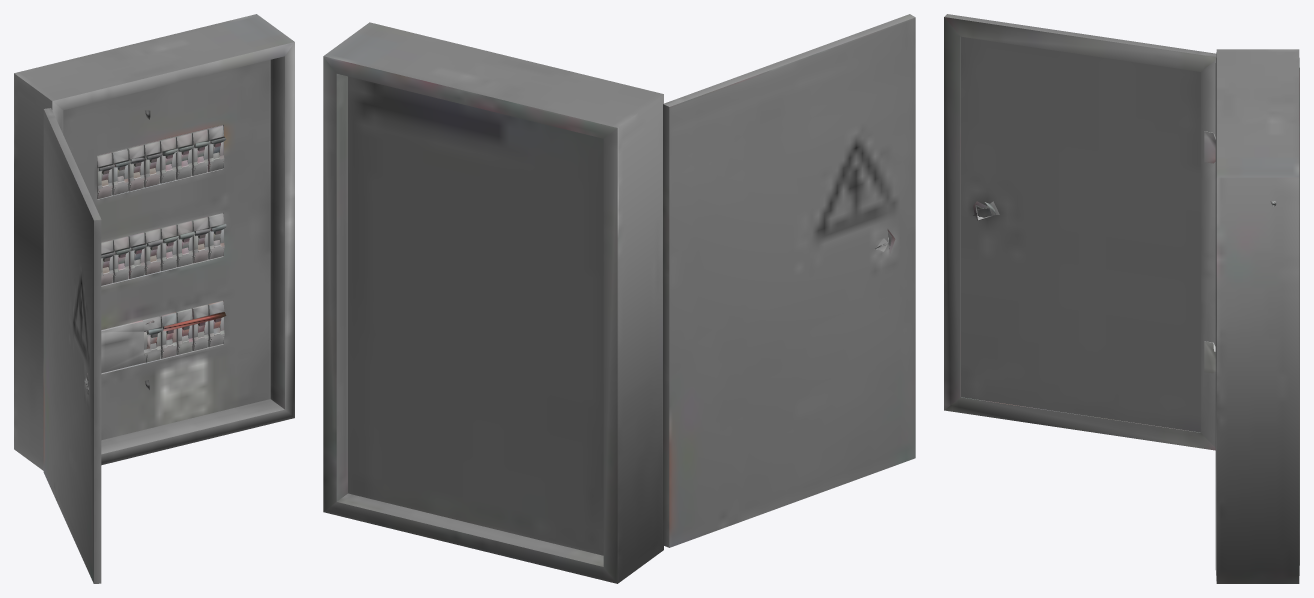
Rendered from powerbox.glb.
3 views of the same model, side by side, from view 1: azimuth 30°, elevation 25°; view 2: azimuth 150°, elevation 25°; view 3: azimuth 270°, elevation 25° (orthographic). The views are drawn at different scales.
Visible parts, largest first — view 1: power_box_01_box, power_box_01_door; view 2: power_box_01_box, power_box_01_door; view 3: power_box_01_door, power_box_01_box.
Boxes of the visible parts, x1=… form: power_box_01_box: x1=14, y1=14, x2=294, y2=470; power_box_01_door: x1=43, y1=108, x2=101, y2=583; power_box_01_box: x1=323, y1=22, x2=663, y2=583; power_box_01_door: x1=663, y1=14, x2=915, y2=547; power_box_01_door: x1=944, y1=14, x2=1216, y2=450; power_box_01_box: x1=1215, y1=49, x2=1299, y2=583.
Size of the model in its own units: 0.4608 by 0.5031 by 0.399.
1 material, 1 textured.
